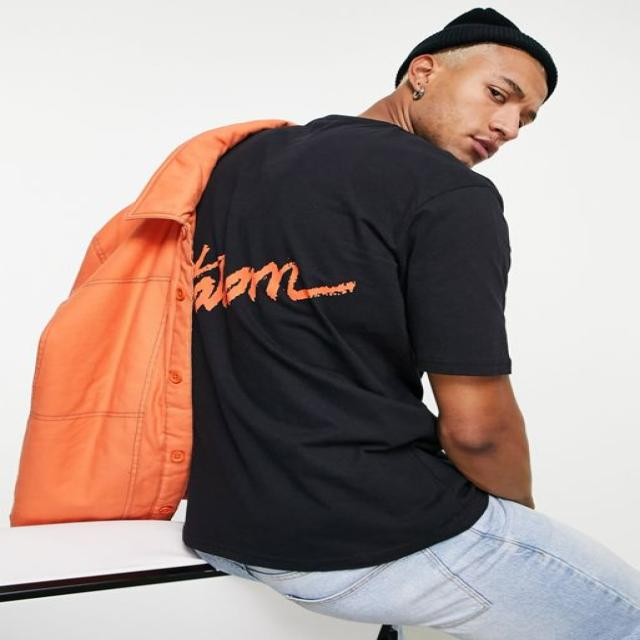tshirt: (181, 112, 515, 571)
